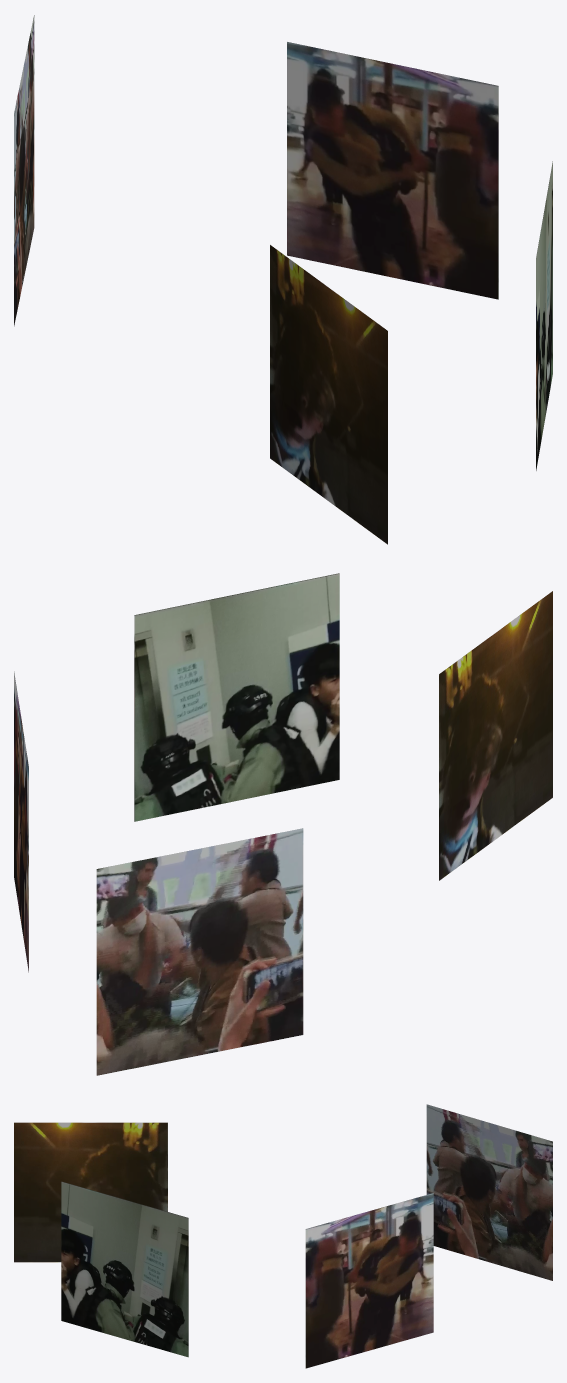
The model's file is brutalityisarhythm.glb.
The picture shows the model from 3 angles, top to bottom: view 1: azimuth 30°, elevation 25°; view 2: azimuth 150°, elevation 25°; view 3: azimuth 270°, elevation 25°; orthographic projection. The views are drawn at different scales.
Parts seen in each view (by area): view 1: videotarget; view 2: videotarget; view 3: videotarget.
Boxes of the visible parts, left/top/right/bottom form: videotarget: left=14, top=15, right=552, bottom=544; videotarget: left=14, top=573, right=552, bottom=1075; videotarget: left=14, top=1104, right=552, bottom=1368.
Size of the model in its own units: 1.92 by 1 by 3.5.
Materials: 1 (1 with a texture image).
